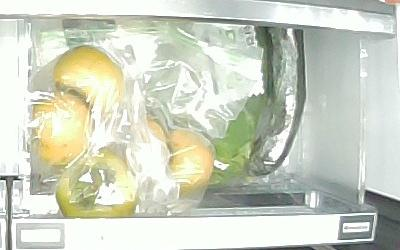persimmon_vinyl: (57, 154, 137, 218), (54, 46, 124, 118), (32, 95, 89, 166), (167, 130, 214, 197), (131, 122, 168, 175)
